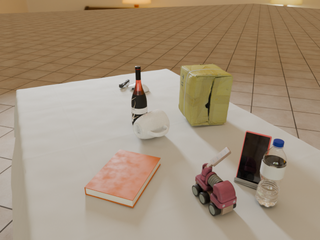book: (85, 150, 160, 208)
bottle: (255, 139, 287, 208), (131, 66, 148, 125)
box: (179, 64, 233, 126)
cup: (133, 109, 170, 139)
mouse: (128, 83, 149, 92)
phone: (236, 131, 272, 184)
toy_car: (192, 147, 237, 216)
